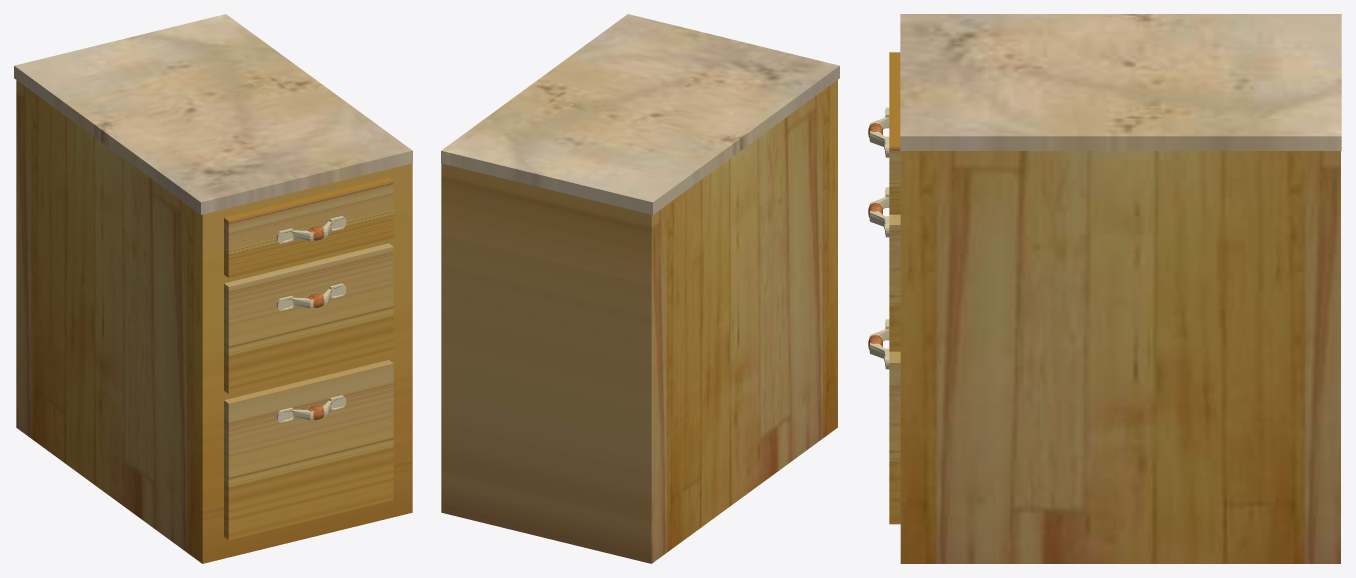
Rendered from sweethome3d-contributions-wood-drawer-cabinet.glb.
3 views of the same model, side by side, from view 1: azimuth 30°, elevation 25°; view 2: azimuth 150°, elevation 25°; view 3: azimuth 270°, elevation 25° (orthographic). The views are drawn at different scales.
Visible parts, largest first — view 1: PolyMesh_1_3, PolyMesh_2, Cube_3, Cube_3_1, Cube_3_2, verthandle_1, verthandle_2, verthandle; view 2: PolyMesh_1_3, PolyMesh_2; view 3: PolyMesh_1_3, PolyMesh_2, Cube_3, Cube_3_2, Cube_3_1.
Boxes of the visible parts, x1=… form: PolyMesh_1_3: x1=16, y1=80, x2=412, y2=563; PolyMesh_2: x1=14, y1=14, x2=412, y2=214; Cube_3: x1=224, y1=360, x2=393, y2=539; Cube_3_1: x1=224, y1=243, x2=393, y2=393; Cube_3_2: x1=224, y1=177, x2=393, y2=277; verthandle_1: x1=276, y1=216, x2=346, y2=243; verthandle_2: x1=276, y1=395, x2=346, y2=422; verthandle: x1=276, y1=283, x2=346, y2=311; PolyMesh_1_3: x1=441, y1=80, x2=837, y2=563; PolyMesh_2: x1=441, y1=14, x2=839, y2=214; PolyMesh_1_3: x1=900, y1=151, x2=1340, y2=563; PolyMesh_2: x1=900, y1=14, x2=1341, y2=150; Cube_3: x1=889, y1=351, x2=900, y2=524; Cube_3_2: x1=889, y1=52, x2=900, y2=214; Cube_3_1: x1=889, y1=214, x2=900, y2=351.
Bounding box in the file's own units: 3.93 × 6.41 × 6.43.
4 materials, 3 textured.
